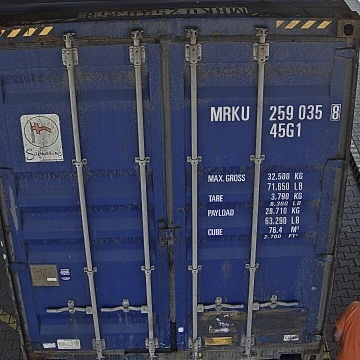serial_id: (211, 104, 340, 120)
